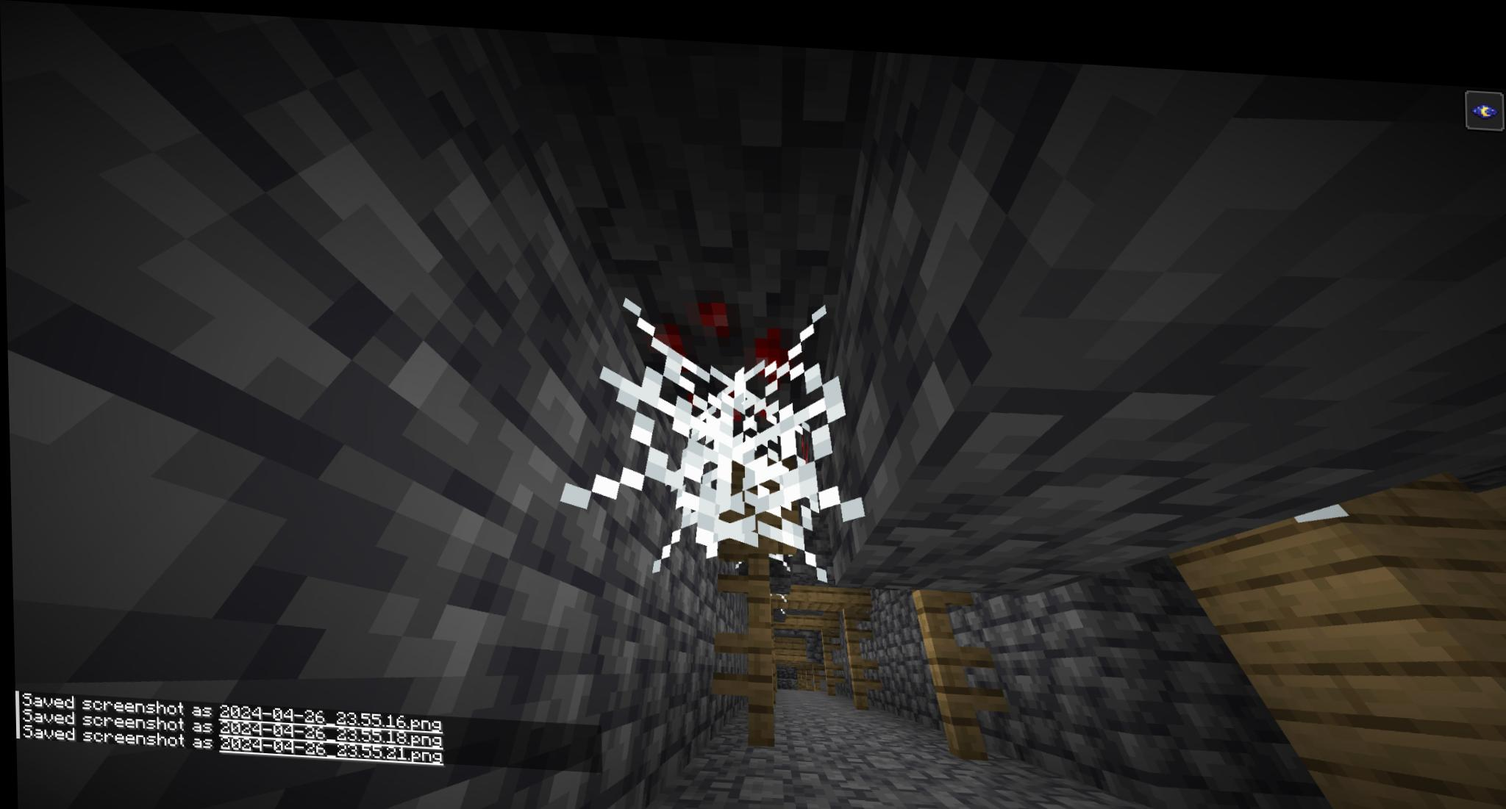redstone ore: (641, 283, 826, 411)
